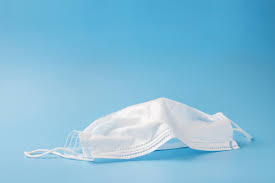mask: (78, 100, 233, 161)
